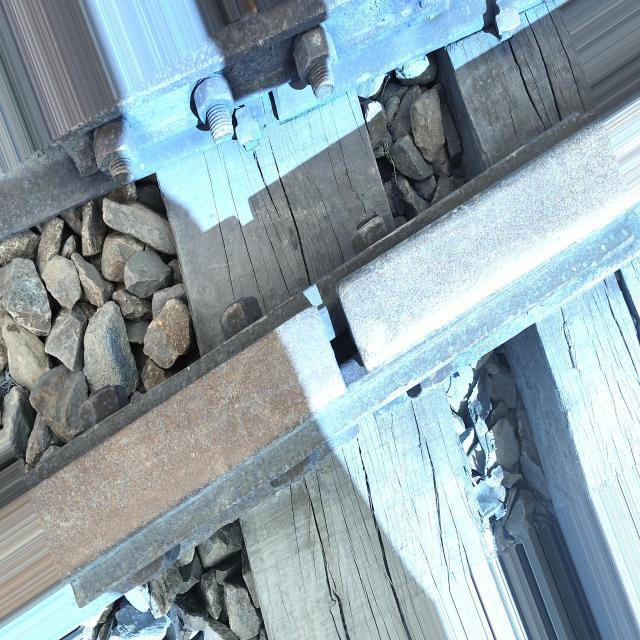Defective Joint: (18, 103, 640, 614)
